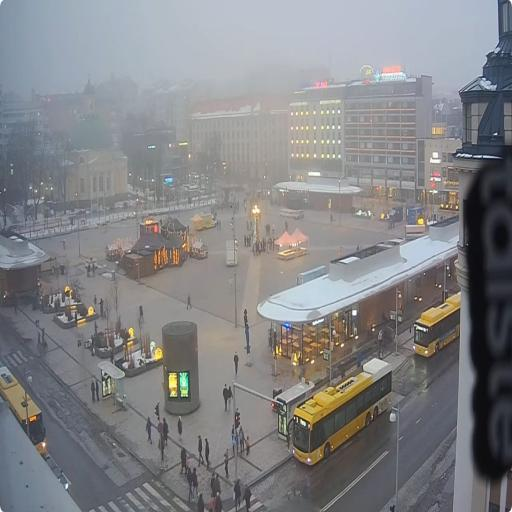Bus: (293, 358, 391, 464), (0, 366, 46, 454), (413, 292, 460, 356), (414, 293, 460, 355), (405, 217, 425, 240)
